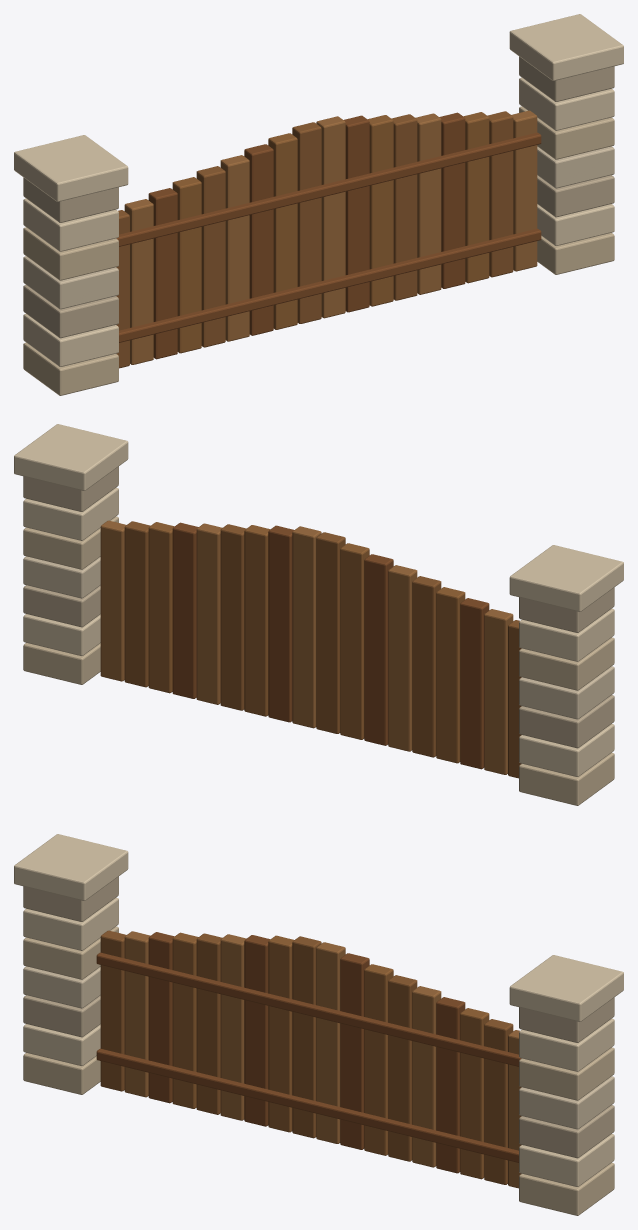
The model's file is closed_estate_gate.glb.
The picture shows the model from 3 angles, top to bottom: view 1: azimuth 30°, elevation 25°; view 2: azimuth 150°, elevation 25°; view 3: azimuth 330°, elevation 25°; orthographic projection.
Visible parts, largest first — view 1: closed_estate_gate; view 2: closed_estate_gate; view 3: closed_estate_gate.
Part boxes in pixels (x1=…): closed_estate_gate: x1=14, y1=14, x2=623, y2=395; closed_estate_gate: x1=14, y1=424, x2=623, y2=805; closed_estate_gate: x1=14, y1=834, x2=623, y2=1215.
Bounding box in the file's own units: 6.18 × 2.27 × 0.83.
